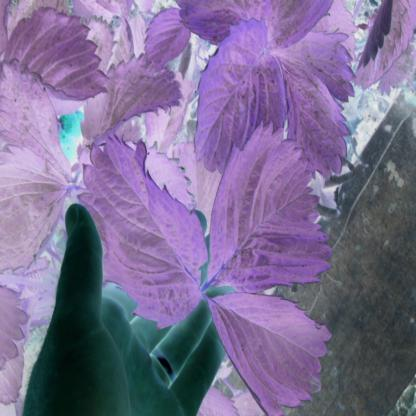strawberry leaf: (74, 126, 214, 317), (206, 125, 332, 296), (202, 284, 334, 407)
